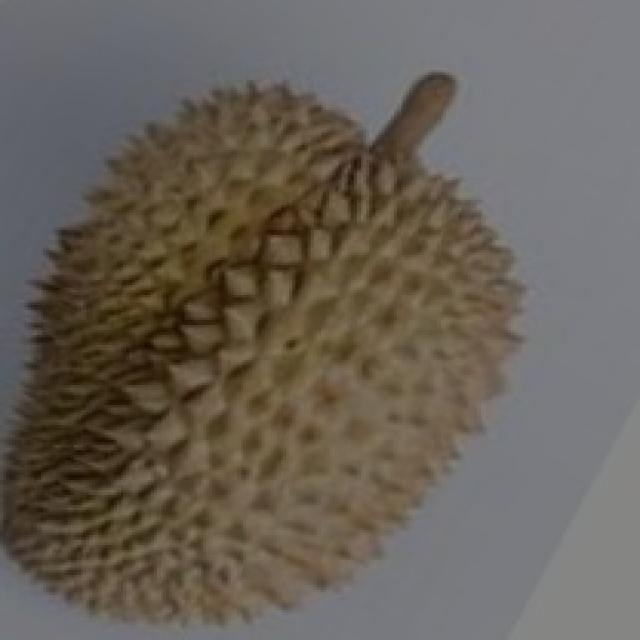fruit: (3, 262, 379, 640)
